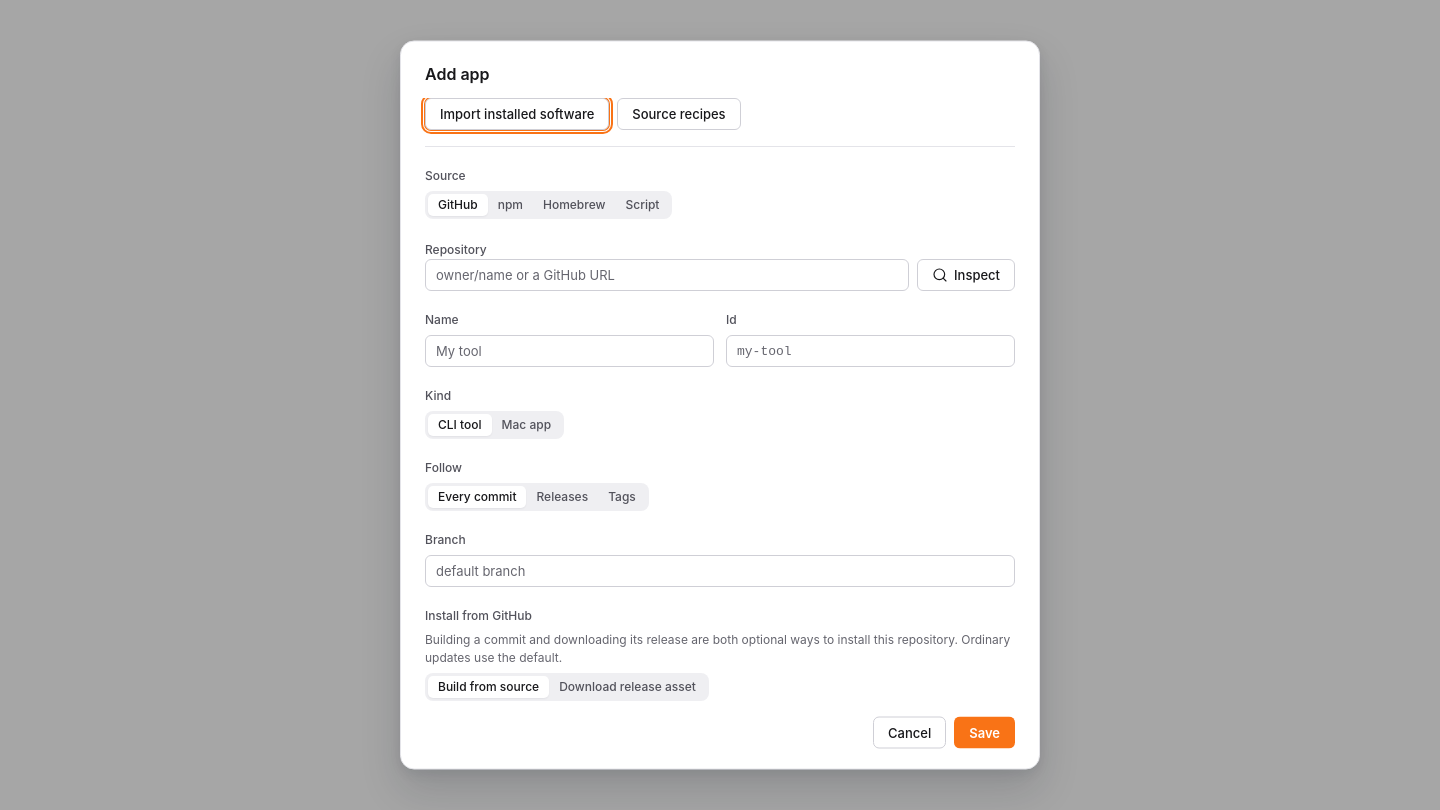
Test case: switches an inspected GitHub repository to the chosen Homebrew cask and immediately looks it up
Type "acme/editor" into the field labelled "Repository" at (667, 274), box [425,258,909,290]
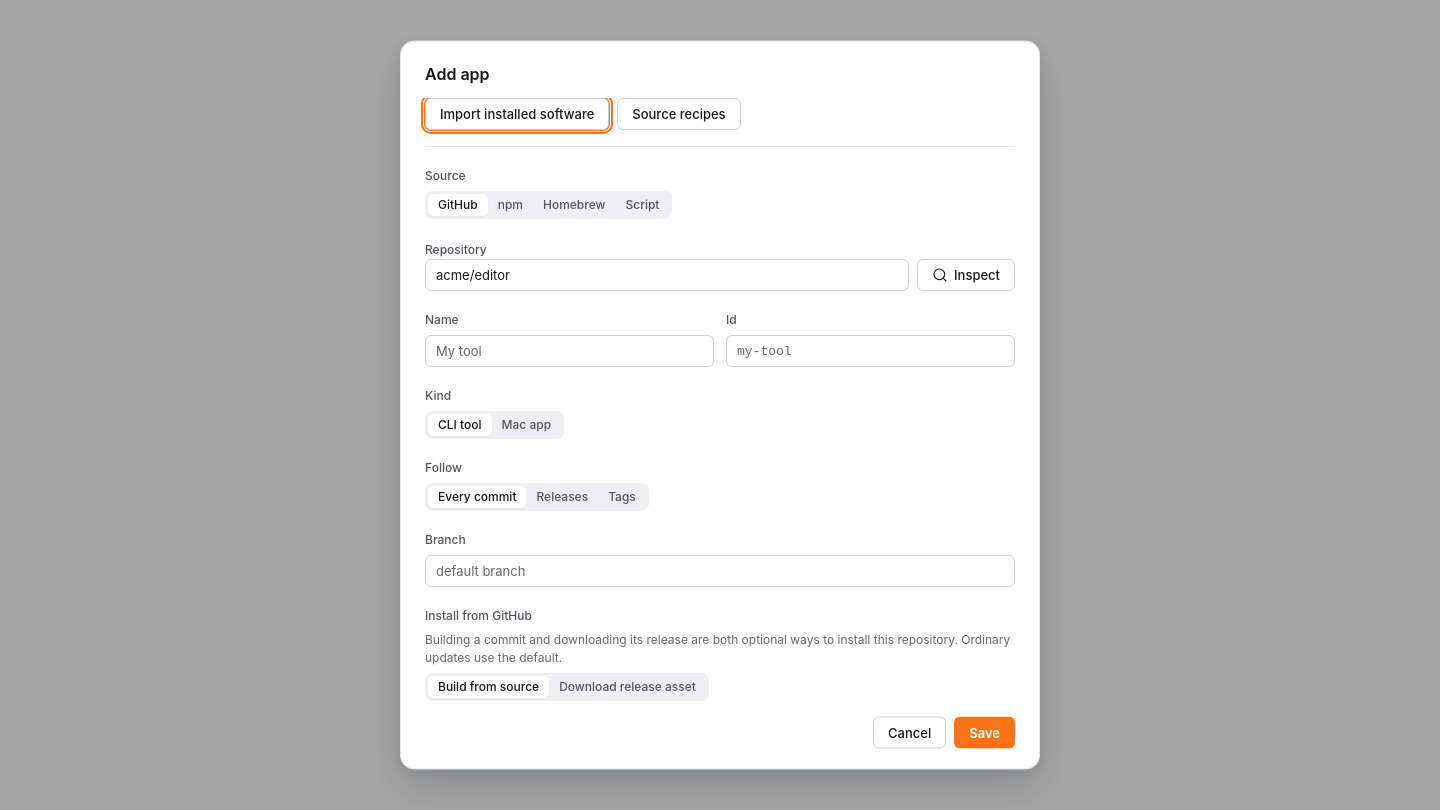
Click the button "Inspect" at (966, 274), box [917,258,1015,290]
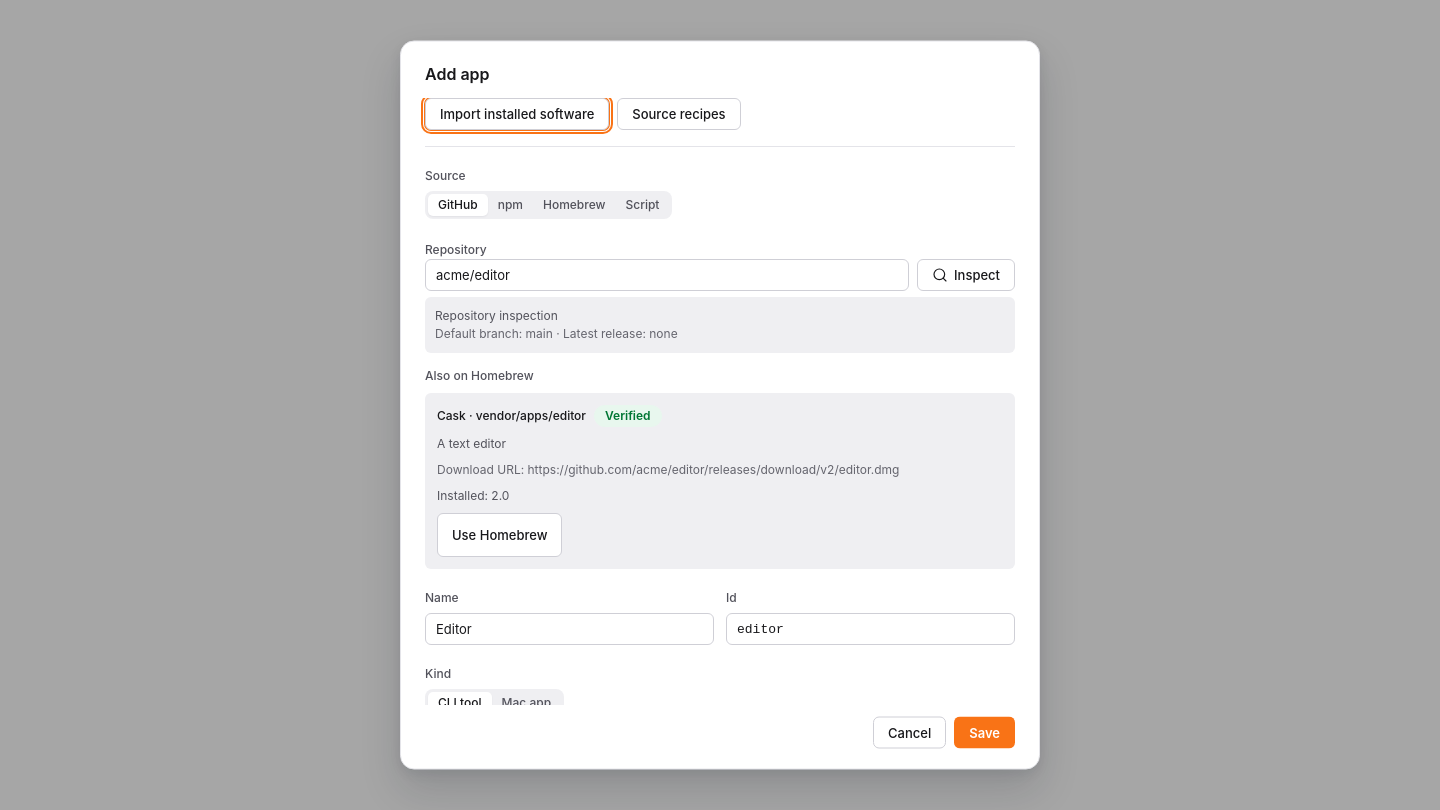
Click the button with aria-label "Use Homebrew: Cask · vendor/apps/editor" at (500, 534), box [437,512,562,556]
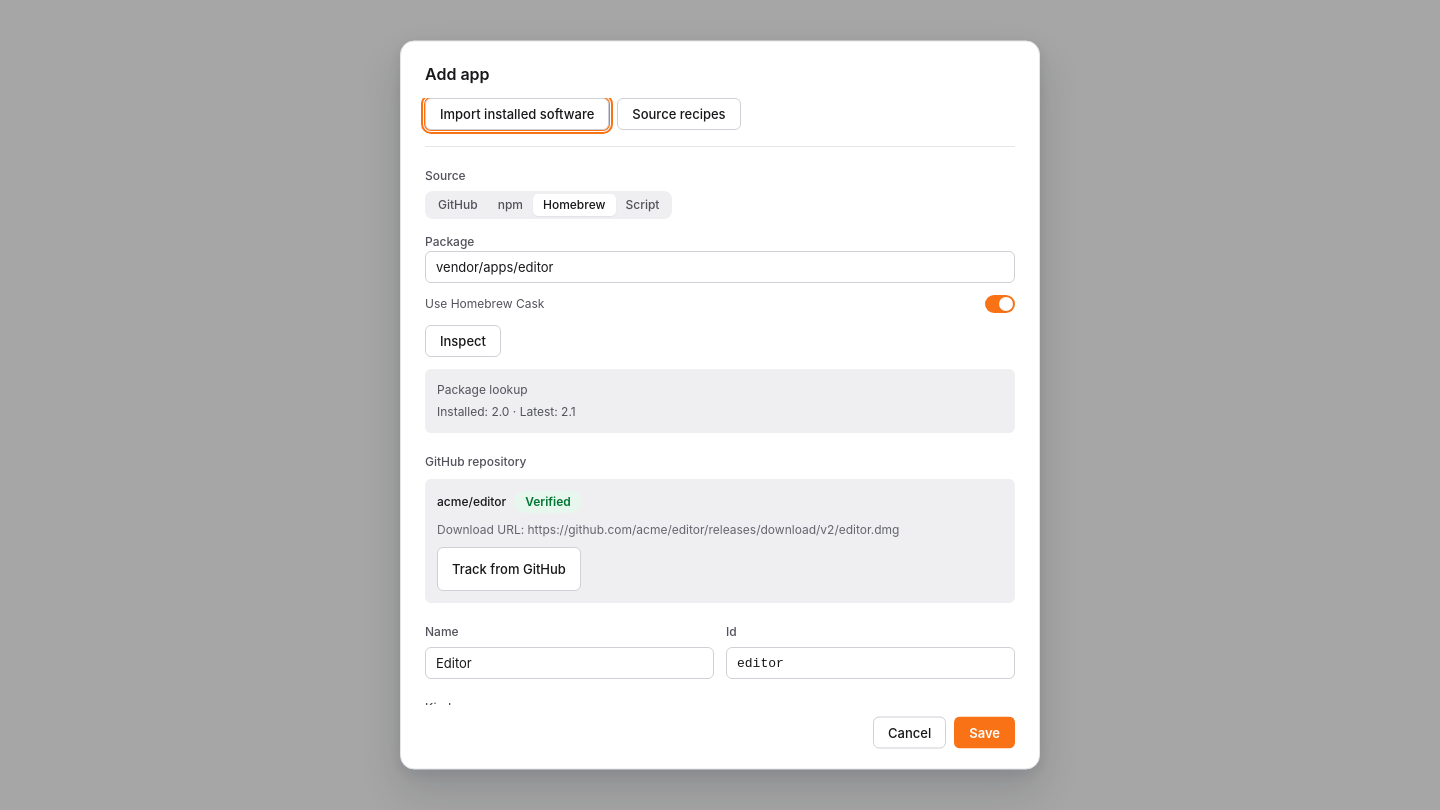
Check: the field labelled "Package" holds "vendor/apps/editor", box [425,250,1015,282]
Check: the switch named "Cask" is checked, box [985,294,1015,312]
Check: the text "Package lookup" is shown, box [437,382,528,396]
